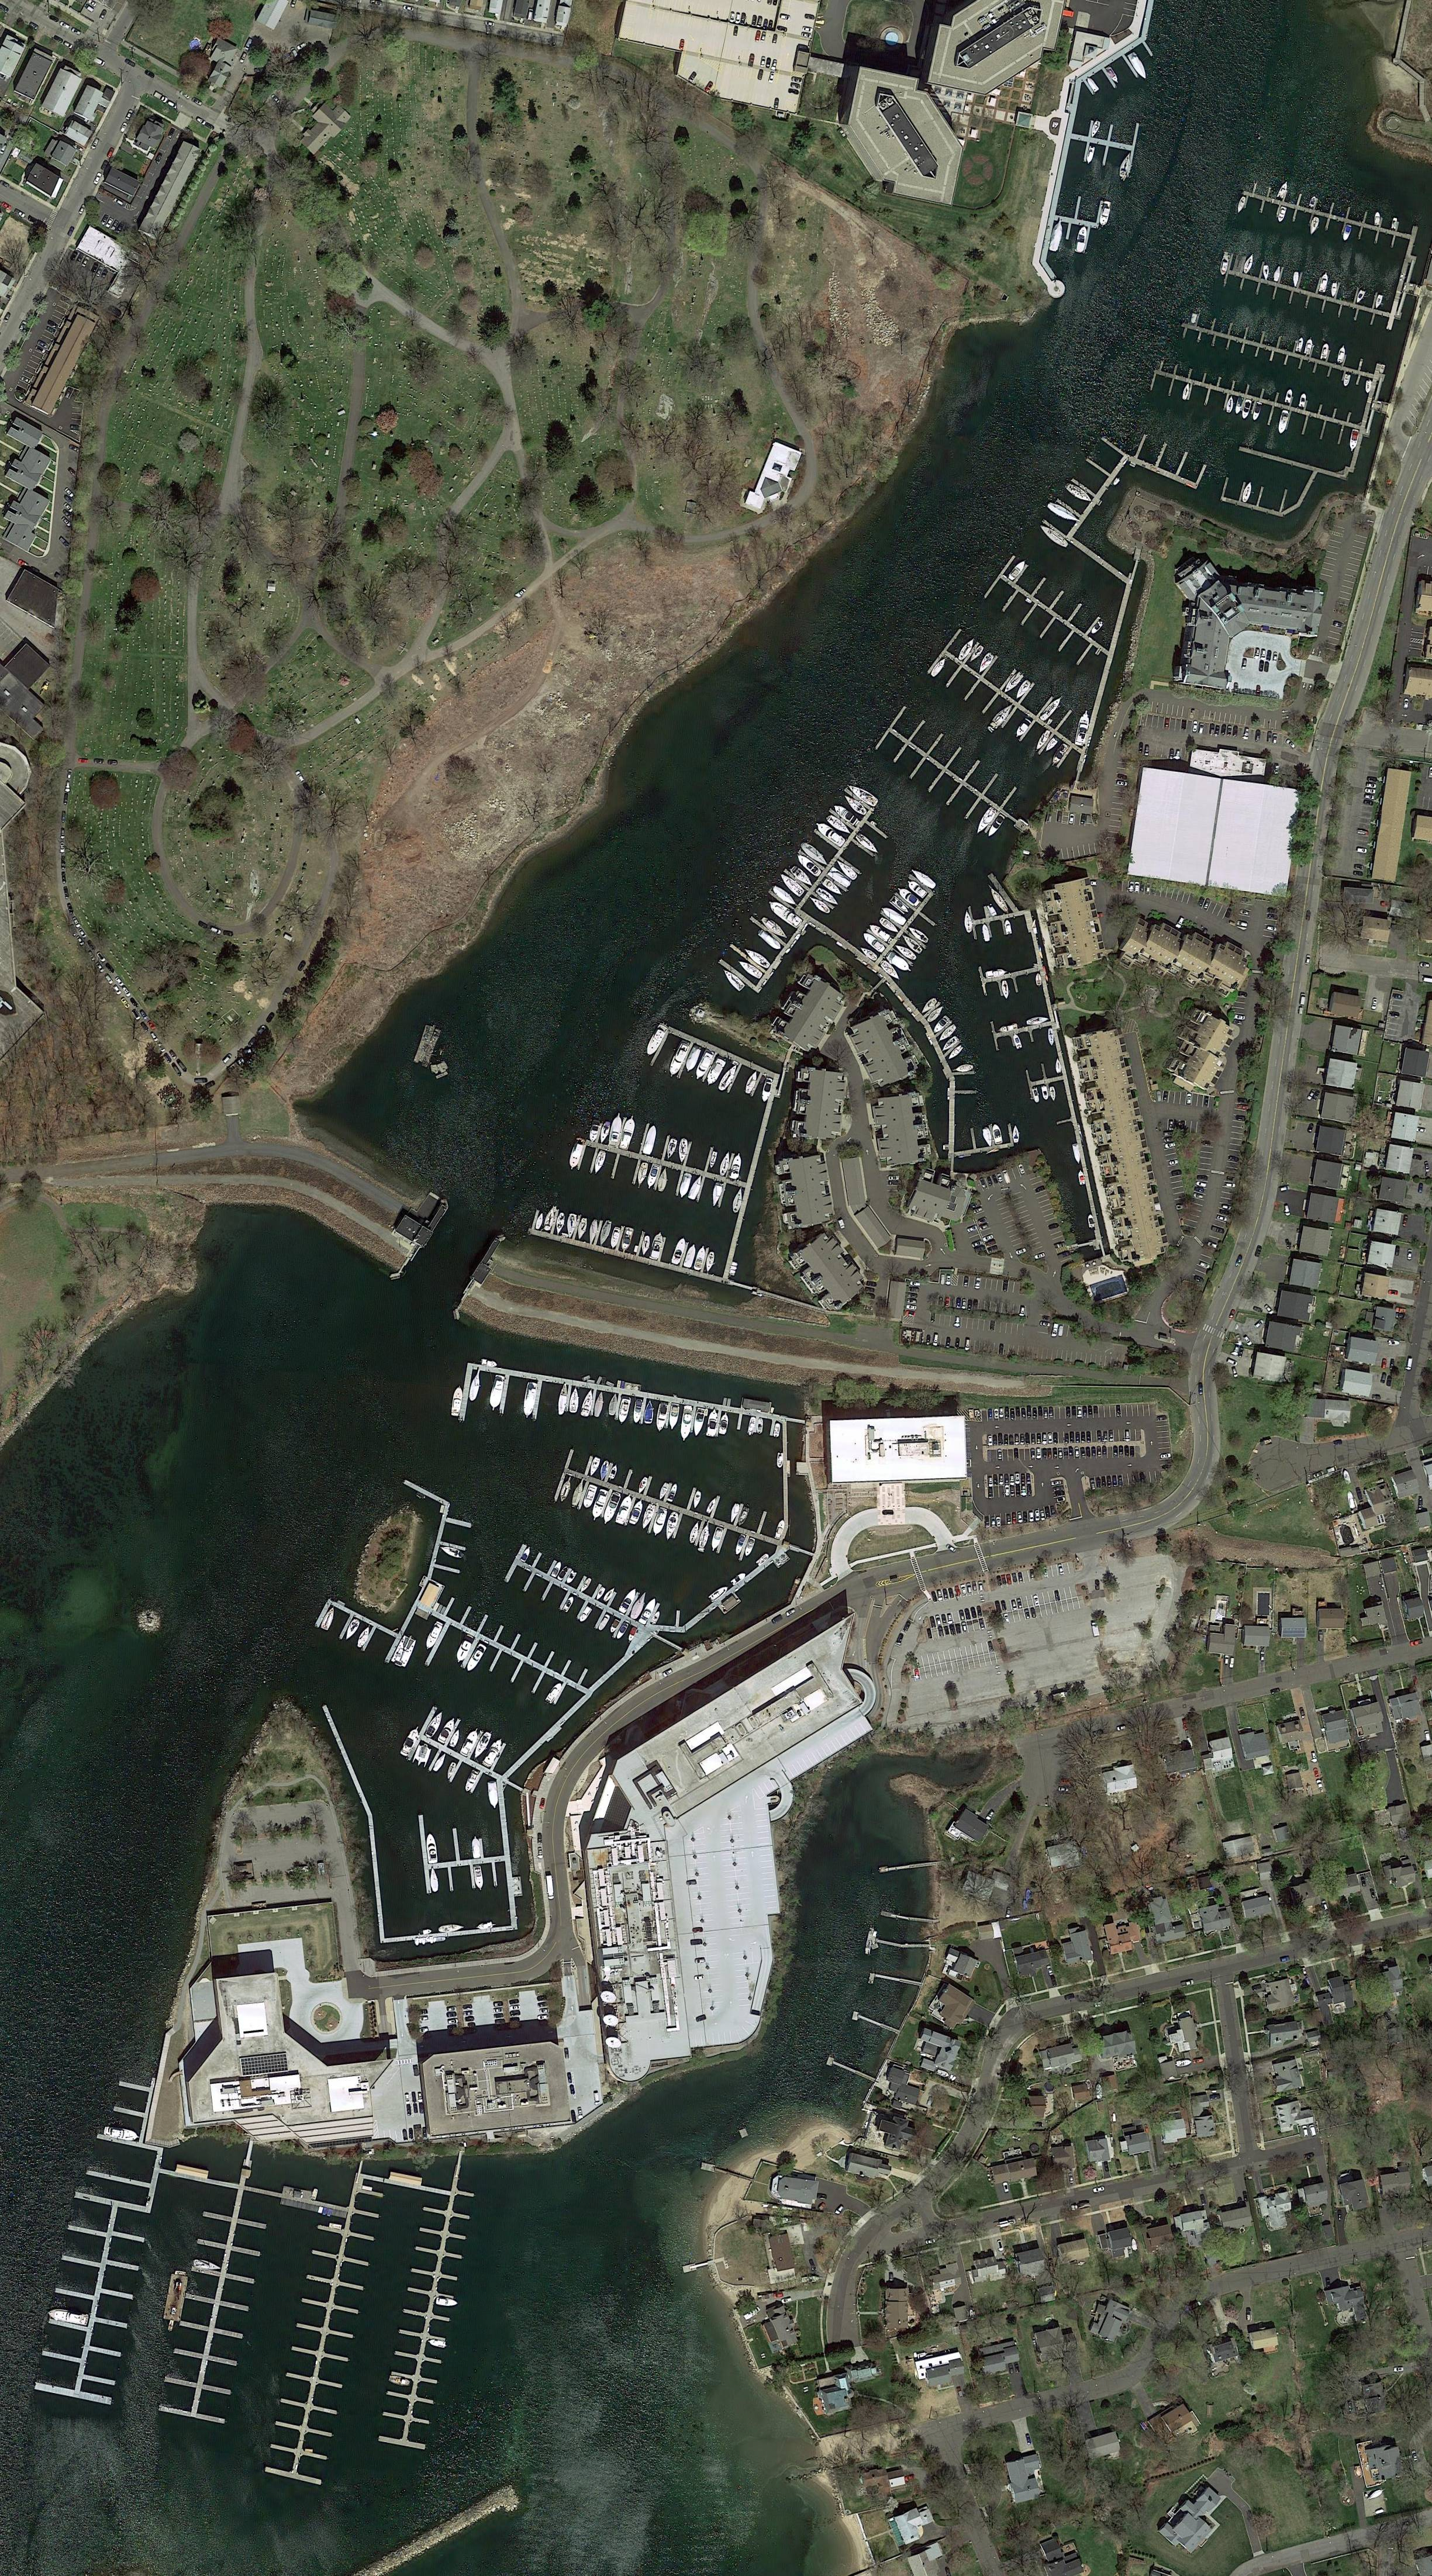harbor: (34, 2070, 182, 2403), (257, 2156, 397, 2488), (714, 778, 901, 1000), (155, 2139, 293, 2424), (451, 1352, 808, 1460), (305, 1470, 476, 1673), (413, 1576, 605, 1738), (552, 1444, 788, 1569), (376, 2186, 480, 2447), (873, 702, 1042, 855), (928, 626, 1093, 769), (570, 1100, 757, 1222), (501, 1532, 668, 1661), (1152, 353, 1367, 450), (529, 1201, 734, 1287), (981, 552, 1120, 677), (1182, 307, 1386, 391), (1217, 247, 1398, 333), (397, 1696, 531, 1811), (1236, 178, 1418, 257), (642, 1014, 785, 1114), (852, 860, 959, 984), (1042, 432, 1136, 543), (1055, 1097, 1113, 1262), (420, 1805, 517, 1894), (314, 1696, 381, 1816), (910, 994, 981, 1081), (1081, 41, 1159, 104), (958, 887, 1037, 947), (1049, 189, 1116, 259), (1134, 430, 1210, 490), (1069, 111, 1141, 173), (1240, 443, 1347, 483), (1220, 473, 1307, 520), (390, 1918, 513, 1950), (947, 1118, 1023, 1165), (362, 1820, 390, 1947), (862, 1925, 938, 1971), (981, 950, 1049, 1000), (991, 1007, 1060, 1054), (1026, 1060, 1070, 1106), (825, 2052, 878, 2088), (852, 2005, 901, 2038), (876, 1857, 943, 1880), (878, 1904, 938, 1929), (869, 1969, 924, 1994)
